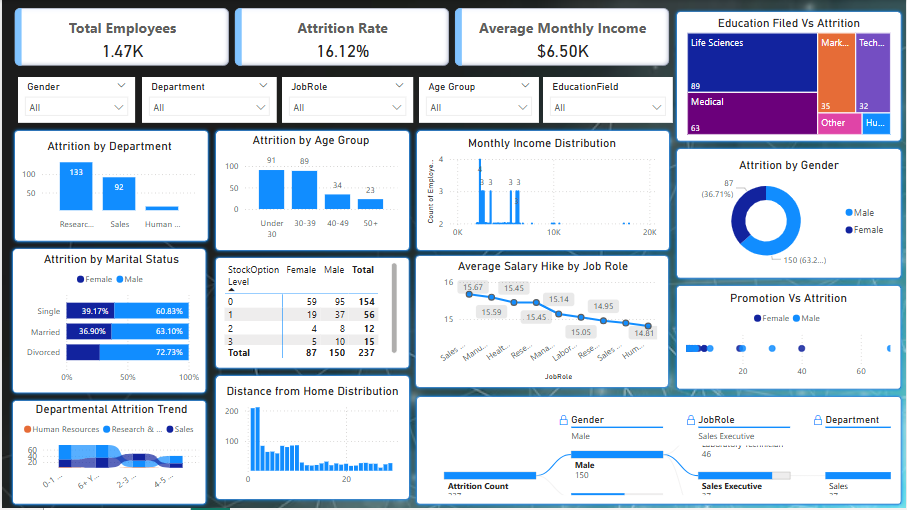

Layout of this report page (visuals, bound fields, positions):
{"tool":"powerbi","page":{"name":"Executive Summary","canvas":[1280,720],"ordinal":0},"visuals":[{"type":"shape","box":[9.9,347.2,284.9,215.4],"z":0},{"type":"shape","box":[581.1,357.2,368.5,197],"z":1000},{"type":"shape","box":[951,399.7,328.8,157.3],"z":2000},{"type":"shape","box":[951,11.3,328.8,194.2],"z":3000},{"type":"treemap","title":"Education Filed Vs Attrition ","fields":{"Values":["HR Employee Attrition.Attrition Count"],"Group":["HR Employee Attrition.EducationField"]},"box":[966.6,22.7,297.6,172.9],"z":4000},{"type":"cardVisual","fields":{"Data":["HR Employee Attrition.Total Employees","HR Employee Attrition.Attrition Rate","HR Employee Attrition.Average Monthly Income"]},"box":[12.8,11.3,938.3,82.2],"z":5000},{"type":"shape","box":[12.8,180,284.9,167.2],"z":6000},{"type":"slicer","fields":{"Values":["HR Employee Attrition.Gender"]},"box":[22.7,109.1,165.8,65.2],"z":7000},{"type":"slicer","fields":{"Values":["HR Employee Attrition.Department"]},"box":[198.4,109.1,191.3,65.2],"z":8000},{"type":"slicer","fields":{"Values":["HR Employee Attrition.JobRole"]},"box":[396.9,109.1,185.7,65.2],"z":9000},{"type":"slicer","fields":{"Values":["HR Employee Attrition.Age Group"]},"box":[591,109.1,170.1,65.2],"z":10000},{"type":"clusteredColumnChart","title":"Attrition by Department","fields":{"Category":["HR Employee Attrition.Department"],"Y":["HR Employee Attrition.Attrition Count"]},"box":[22.7,197,259.4,136.1],"z":11000},{"type":"shape","box":[297.6,180,284.9,180],"z":12000},{"type":"shape","box":[582.5,180,368.5,180],"z":13000},{"type":"shape","box":[297.6,527.2,284.9,185.7],"z":14000},{"type":"hundredPercentStackedBarChart","title":"Attrition by Marital Status","fields":{"Category":["HR Employee Attrition.MaritalStatus"],"Y":["HR Employee Attrition.Attrition Count"],"Series":["HR Employee Attrition.Gender"]},"box":[25.5,357.2,259.4,195.6],"z":15000},{"type":"shape","box":[582.5,557,697.3,163],"z":16000},{"type":"scatterChart","title":"Promotion Vs Attrition ","fields":{"Category":["HR Employee Attrition.YearsSinceLastPromotion"],"X":["HR Employee Attrition.Attrition Count"],"Series":["HR Employee Attrition.Gender"]},"box":[958.1,412.4,313.2,131.8],"z":17000},{"type":"slicer","fields":{"Values":["HR Employee Attrition.EducationField"]},"box":[766.8,109.1,184.3,65.2],"z":18000},{"type":"shape","box":[297.6,360,284.9,167.2],"z":19000},{"type":"pivotTable","title":"Promotion Vs Attrition ","fields":{"Values":["HR Employee Attrition.Attrition Count"],"Columns":["HR Employee Attrition.Gender"],"Rows":["HR Employee Attrition.StockOptionLevel"]},"box":[310.4,367.1,255.1,146],"z":20000},{"type":"shape","box":[951,205.5,328.8,194.2],"z":21000},{"type":"clusteredColumnChart","title":"Distance from Home Distribution","fields":{"Category":["HR Employee Attrition.DistanceFromHome"],"Y":["CountNonNull(HR Employee Attrition.EmployeeNumber)"]},"box":[310.4,544.3,259.4,153.1],"z":22000},{"type":"areaChart","title":"Monthly Income Distribution","fields":{"Y":["CountNonNull(HR Employee Attrition.EmployeeNumber)"],"Category":["HR Employee Attrition.MonthlyIncome"]},"box":[596.7,192.8,337.3,154.5],"z":23000},{"type":"donutChart","title":"Attrition by Gender","fields":{"Y":["HR Employee Attrition.Attrition Count"],"Category":["HR Employee Attrition.Gender"]},"box":[966.6,223.9,297.6,158.7],"z":24000},{"type":"columnChart","title":"Attrition by Age Group","fields":{"Y":["HR Employee Attrition.Attrition Count"],"Category":["HR Employee Attrition.Age Group"]},"box":[310.4,188.5,255.1,158.7],"z":25000},{"type":"lineChart","title":"Average Salary Hike by Job Role","fields":{"Category":["HR Employee Attrition.JobRole"],"Y":["Avg(HR Employee Attrition.PercentSalaryHike)"]},"box":[599.5,367.1,334.5,177.2],"z":26000},{"type":"decompositionTreeVisual","fields":{"Analyze":["HR Employee Attrition.Attrition Count"],"ExplainBy":["HR Employee Attrition.Gender","HR Employee Attrition.JobRole","HR Employee Attrition.Department"]},"box":[596.7,569.8,667.6,137.5],"z":27000},{"type":"shape","box":[9.9,562.7,284.9,157.3],"z":28000},{"type":"ribbonChart","title":"Departmental Attrition Trend","fields":{"Y":["HR Employee Attrition.Attrition Count"],"Series":["HR Employee Attrition.Department"],"Category":["HR Employee Attrition.Tenure Group"]},"box":[25.5,569.8,259.4,137.5],"z":29000}]}

Visuals, with their boxes in screenshot pixels (x1, y1, x2, y2), scaled from the page's 1280x720 canvas onto the 907x510 screenshot:
shape: 7:246:209:399
shape: 412:253:673:393
shape: 674:283:906:395
shape: 674:8:906:146
"Education Filed Vs Attrition " treemap: 685:16:896:139
cardVisual - HR Employee Attrition.Total Employees x HR Employee Attrition.Attrition Rate: 9:8:674:66
shape: 9:128:211:246
slicer - HR Employee Attrition.Gender: 16:77:134:123
slicer - HR Employee Attrition.Department: 141:77:276:123
slicer - HR Employee Attrition.JobRole: 281:77:413:123
slicer - HR Employee Attrition.Age Group: 419:77:539:123
"Attrition by Department" clusteredColumnChart: 16:140:200:236
shape: 211:128:413:255
shape: 413:128:674:255
shape: 211:373:413:505
"Attrition by Marital Status" hundredPercentStackedBarChart: 18:253:202:392
shape: 413:395:906:509
"Promotion Vs Attrition " scatterChart: 679:292:901:385
slicer - HR Employee Attrition.EducationField: 543:77:674:123
shape: 211:255:413:373
"Promotion Vs Attrition " pivotTable: 220:260:401:363
shape: 674:146:906:283
"Distance from Home Distribution" clusteredColumnChart: 220:386:404:494
"Monthly Income Distribution" areaChart: 423:137:662:246
"Attrition by Gender" donutChart: 685:159:896:271
"Attrition by Age Group" columnChart: 220:134:401:246
"Average Salary Hike by Job Role" lineChart: 425:260:662:386
decompositionTreeVisual - HR Employee Attrition.Attrition Count x HR Employee Attrition.Gender: 423:404:896:501
shape: 7:399:209:509
"Departmental Attrition Trend" ribbonChart: 18:404:202:501
